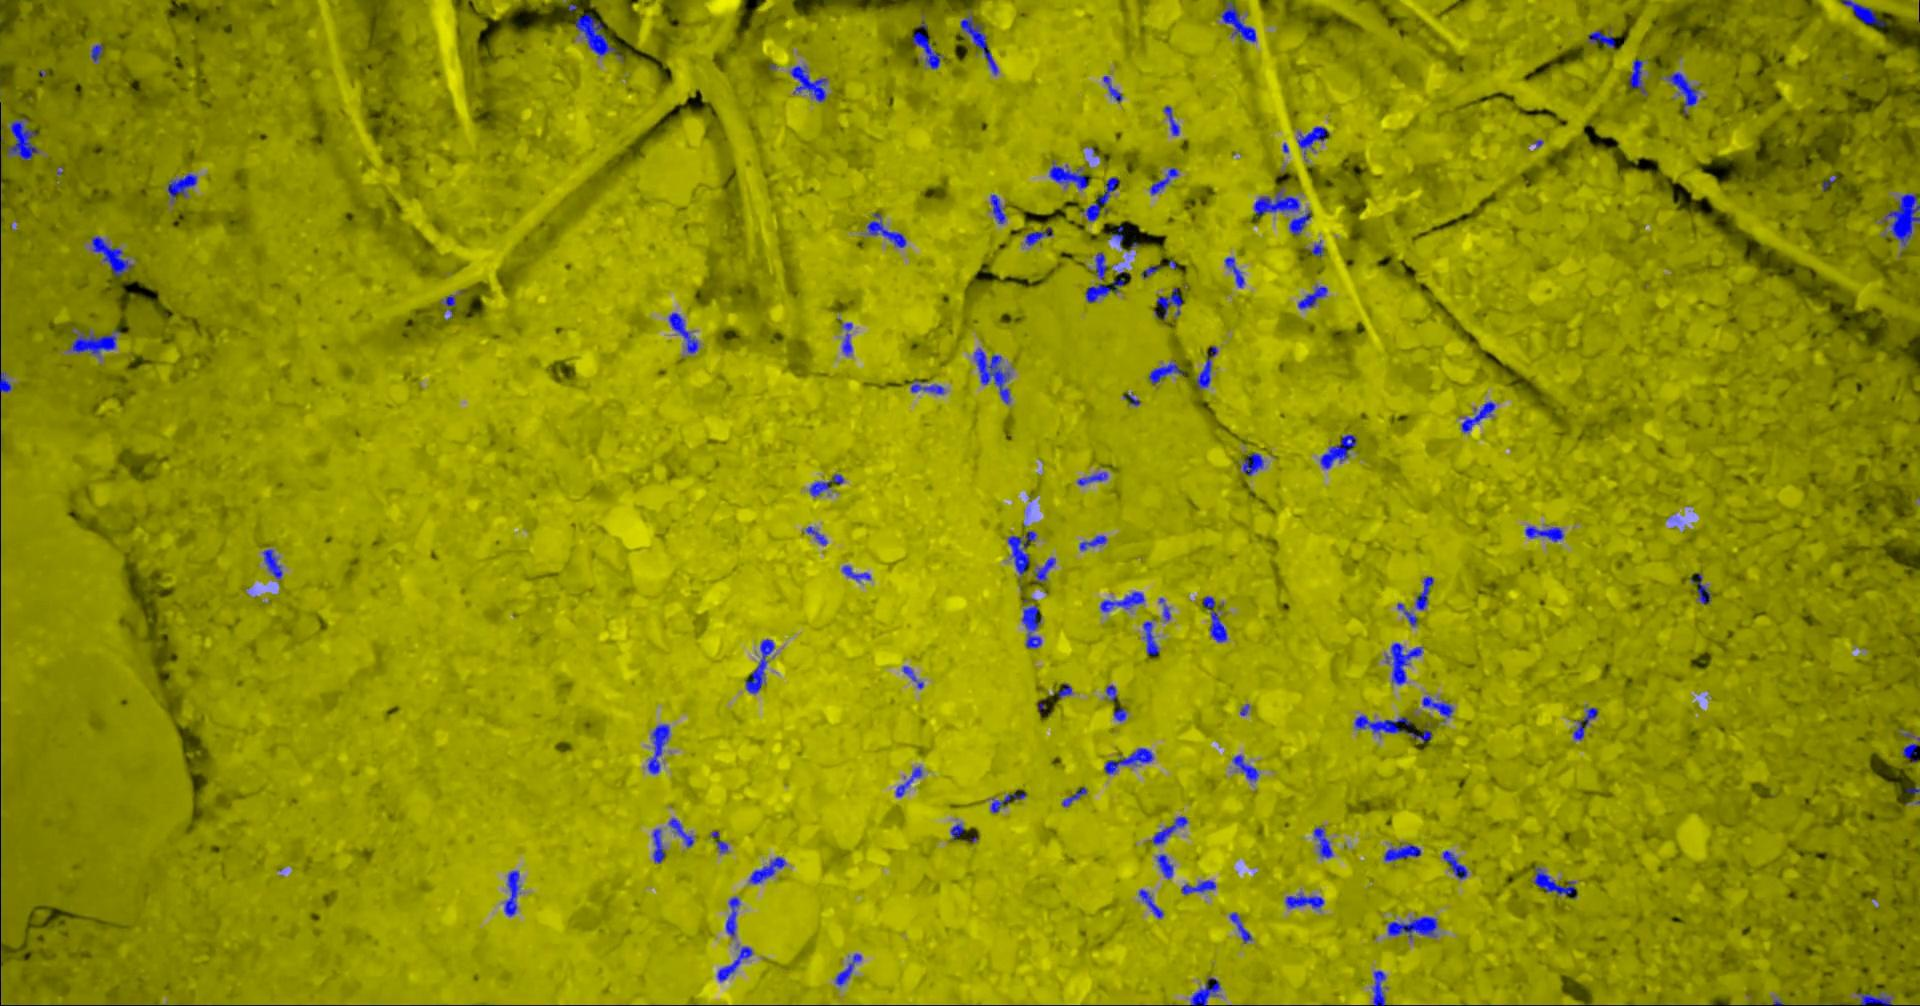ant: (960, 15, 998, 74), (1354, 714, 1432, 741), (973, 348, 1010, 403), (1882, 193, 1919, 245), (574, 13, 615, 56), (1079, 177, 1119, 221), (744, 638, 775, 694), (91, 236, 133, 276), (1385, 641, 1422, 683), (1219, 0, 1255, 41), (910, 20, 940, 69), (1533, 868, 1577, 898), (866, 212, 905, 246), (70, 328, 119, 354), (1103, 747, 1153, 774), (1666, 71, 1697, 114), (790, 65, 825, 102), (1007, 530, 1036, 574), (8, 117, 38, 159), (668, 312, 698, 353), (1319, 434, 1356, 467), (717, 946, 752, 981), (1253, 189, 1299, 215), (1049, 161, 1090, 189), (1840, 0, 1884, 25), (1387, 916, 1437, 937), (648, 724, 669, 774), (1460, 401, 1495, 432), (1203, 596, 1225, 641), (1297, 126, 1330, 156), (1152, 815, 1187, 843), (749, 856, 785, 883), (1098, 591, 1144, 611), (1084, 278, 1123, 302), (1195, 345, 1217, 387), (1154, 287, 1182, 319), (1021, 605, 1041, 648), (1190, 977, 1220, 1005), (1149, 166, 1178, 194), (895, 766, 922, 796), (836, 953, 861, 984), (809, 473, 843, 495), (168, 173, 196, 201), (1573, 708, 1597, 739), (668, 817, 693, 846), (1138, 889, 1163, 918), (1148, 363, 1183, 384), (1232, 754, 1258, 781), (1422, 696, 1451, 720), (504, 870, 519, 916), (1689, 573, 1710, 605), (990, 793, 1026, 812), (1443, 850, 1467, 878), (1297, 286, 1327, 307), (1229, 912, 1251, 942), (1525, 525, 1563, 541), (1224, 257, 1244, 287), (1628, 58, 1646, 93), (1383, 843, 1420, 860), (262, 549, 282, 578), (1415, 575, 1432, 608), (725, 895, 739, 937), (1313, 827, 1332, 857), (1285, 893, 1323, 908), (1142, 621, 1158, 655), (1288, 211, 1310, 235), (1023, 226, 1051, 245), (1181, 879, 1215, 894), (1396, 602, 1417, 626), (1102, 75, 1121, 102), (910, 379, 943, 394), (1242, 452, 1263, 475), (902, 666, 923, 688), (651, 828, 665, 862), (1371, 970, 1385, 1005), (1035, 558, 1055, 580), (1587, 30, 1615, 47), (1062, 788, 1086, 807), (1163, 105, 1178, 135), (841, 565, 870, 580), (1076, 471, 1107, 485), (1156, 854, 1173, 878), (1902, 737, 1919, 762), (990, 194, 1004, 224), (1079, 535, 1106, 550), (711, 829, 728, 854), (1857, 993, 1891, 1005), (805, 526, 827, 544), (841, 323, 852, 354), (1095, 251, 1107, 279), (1110, 225, 1123, 248), (443, 293, 455, 319), (0, 371, 11, 392), (950, 823, 964, 840), (1310, 239, 1323, 257), (1057, 683, 1070, 699), (90, 43, 102, 61), (1142, 265, 1159, 277), (1112, 708, 1126, 721), (1105, 683, 1116, 700), (0, 123, 3, 183)
